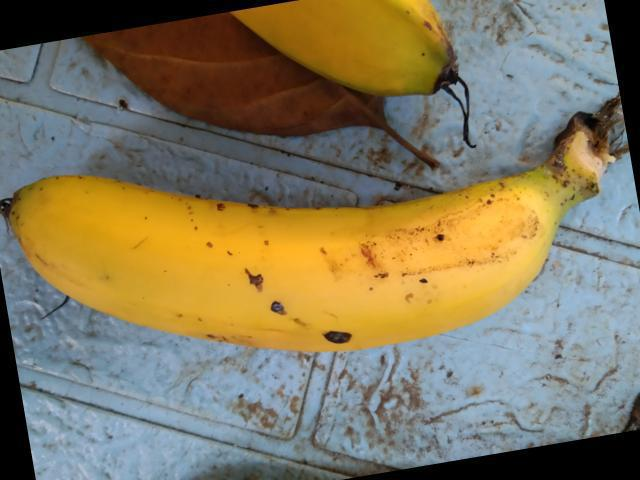ripe: (9, 126, 575, 442)
